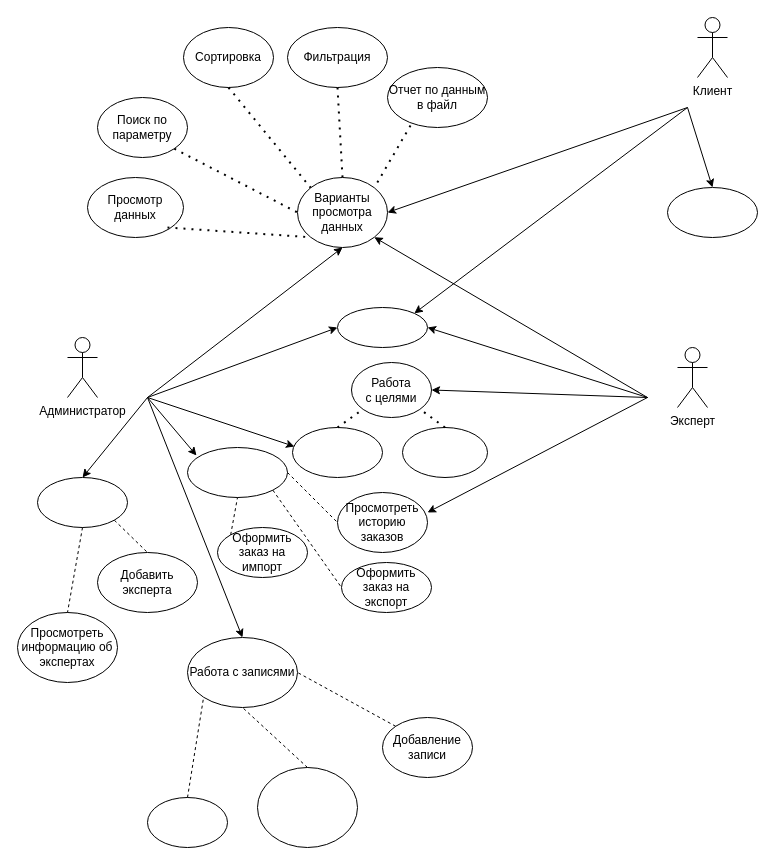
The diagram is 775 pixels wide and 865 high, and some of its shapes have lost their labels. Each missing label, with the box of its shape:
Авторизация: (336, 306, 428, 348)
Оценка целей: (402, 426, 488, 478)
Получить отчет по целям: (292, 426, 382, 478)
Работа с заказами: (186, 446, 288, 498)
Работа с экспертами: (36, 476, 128, 528)
Регистрация: (666, 186, 758, 238)
Редактирование записи: (256, 766, 358, 848)
Удаление записи: (146, 796, 228, 848)
